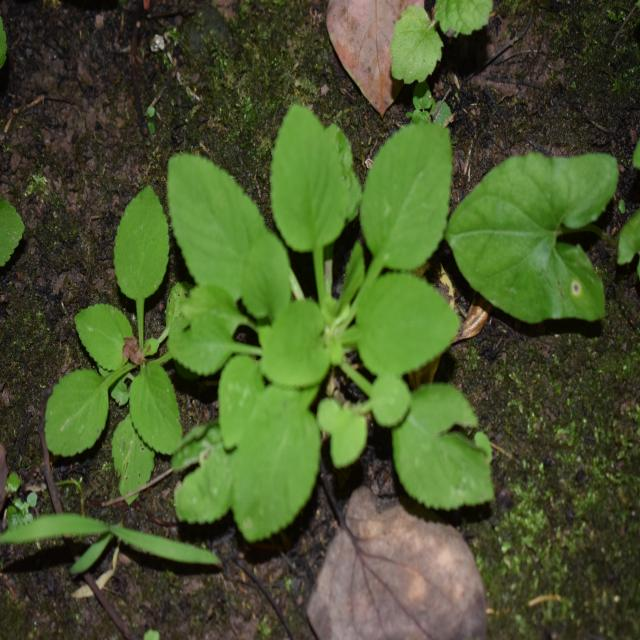Viola: (171, 92, 487, 525), (34, 182, 212, 486)
